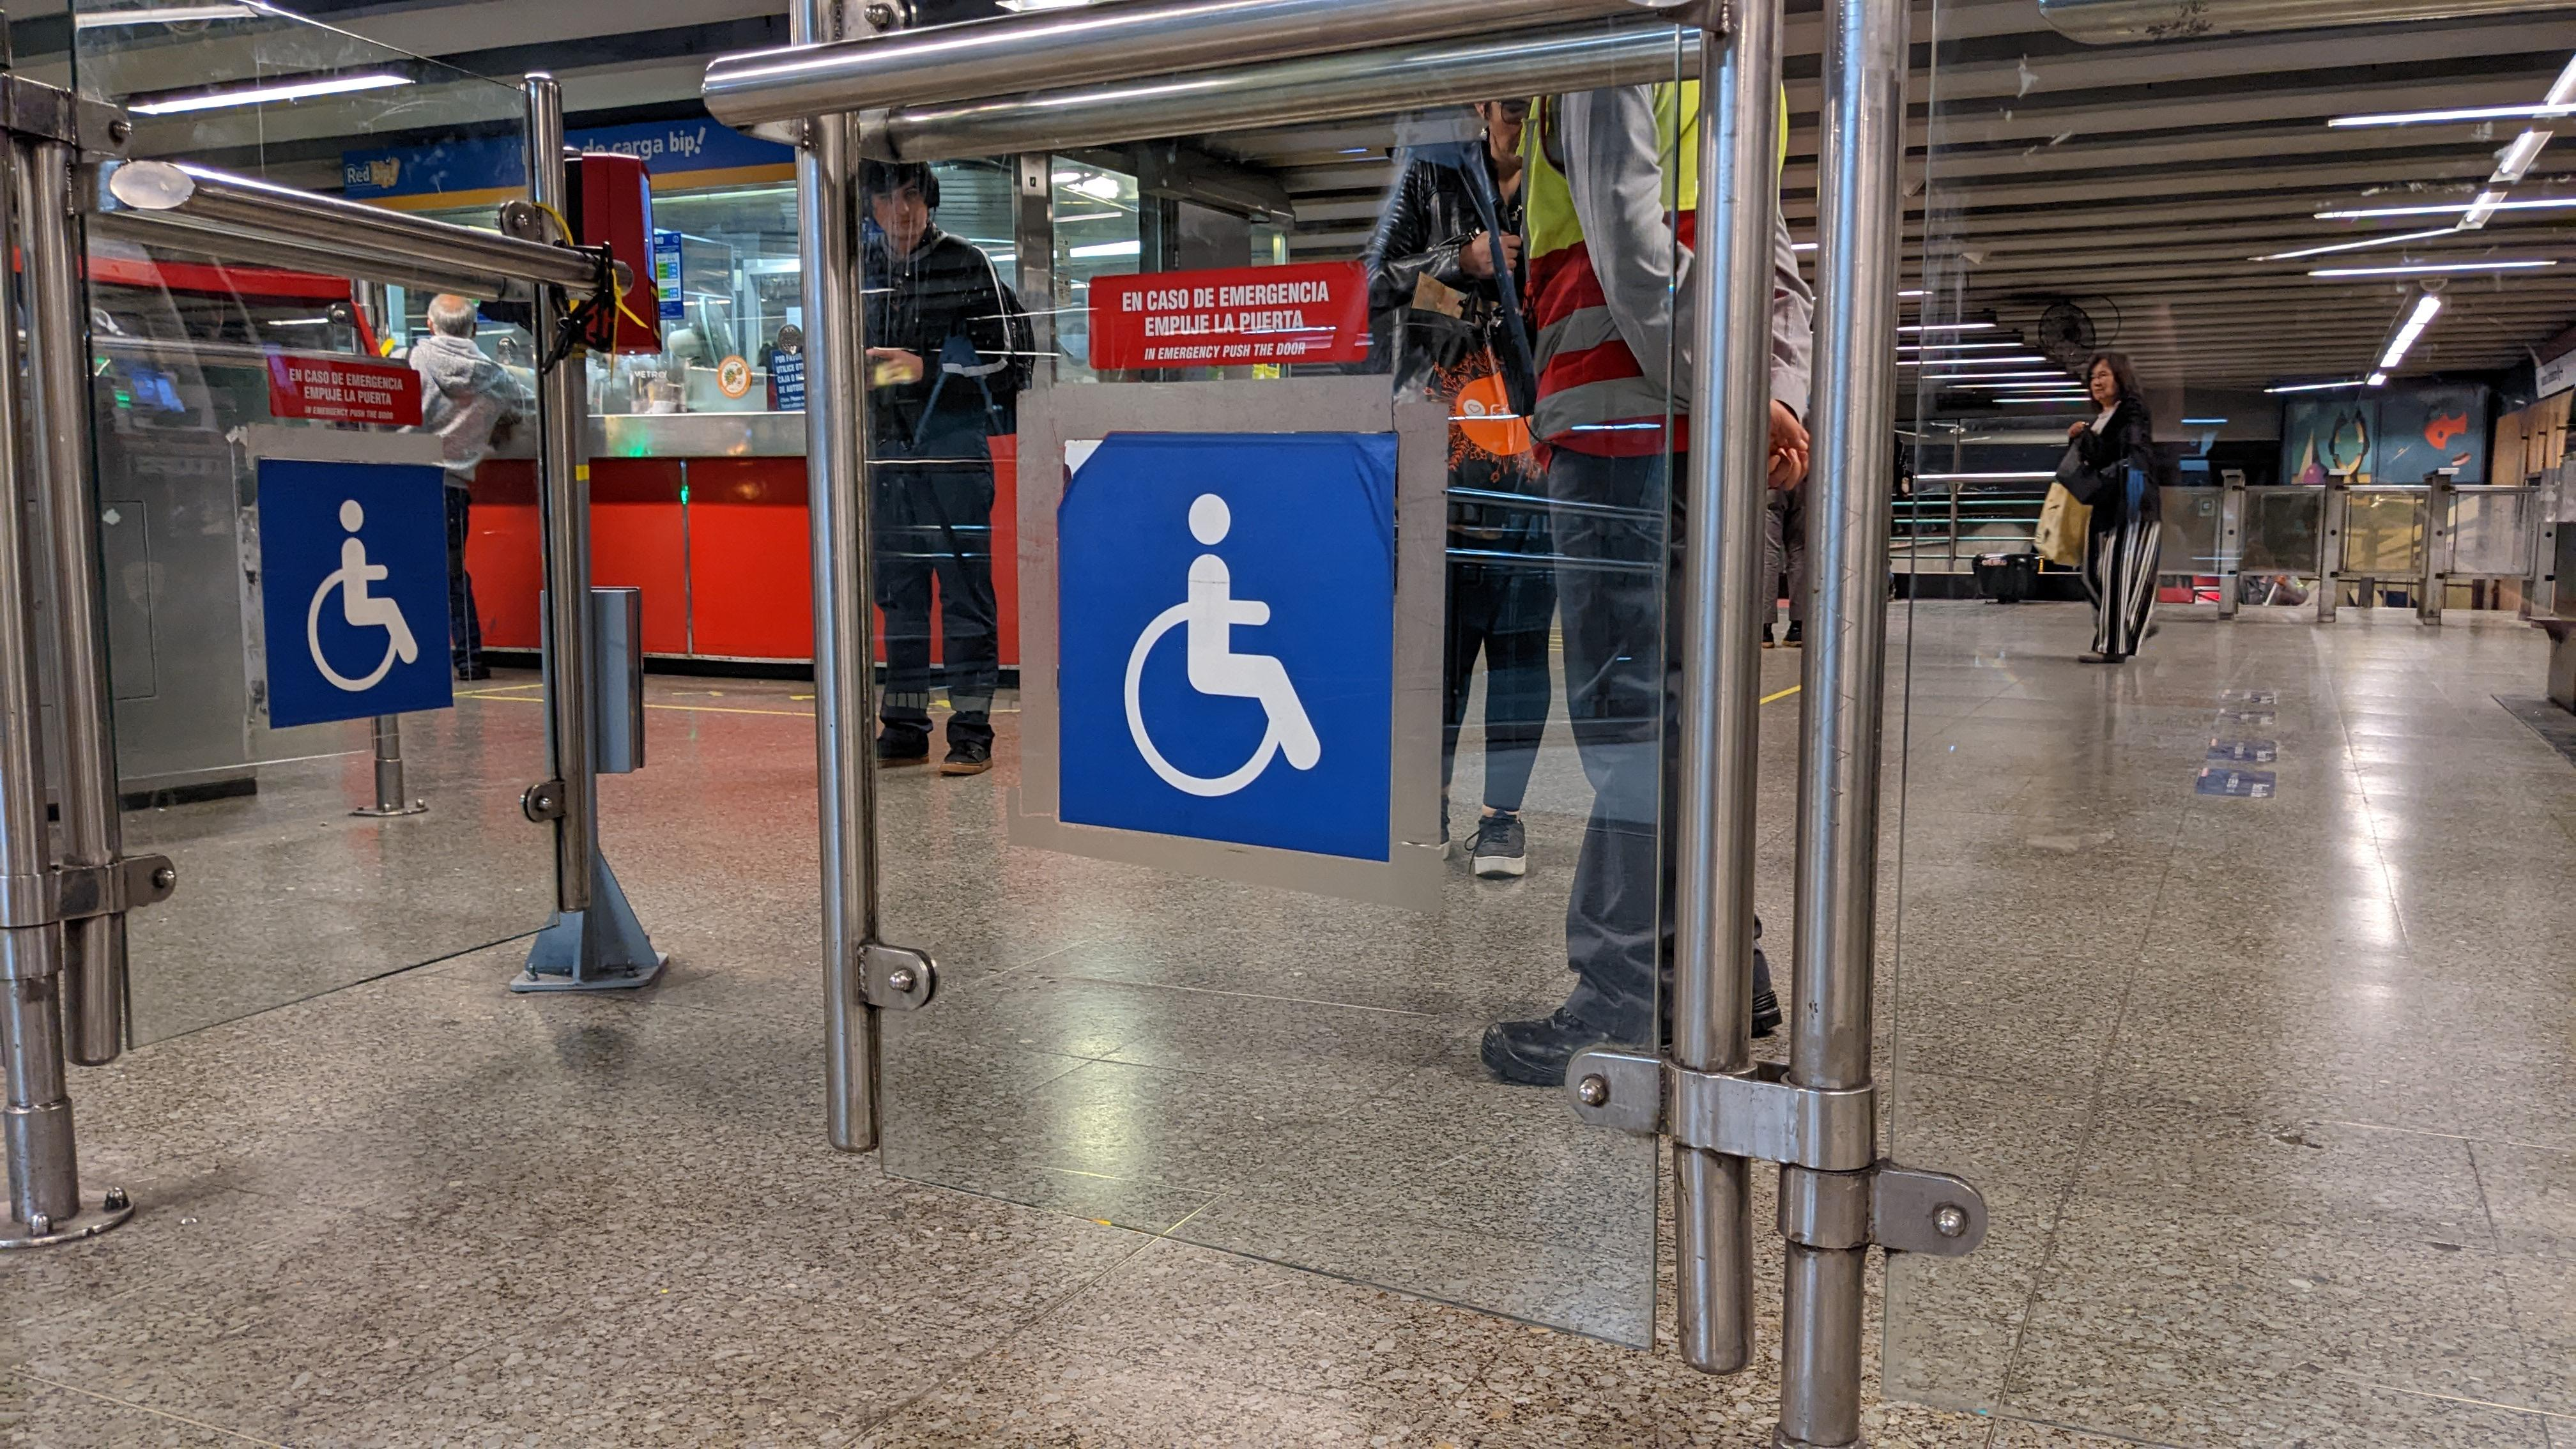handicapped symbol: (1116, 488, 1329, 803), (301, 492, 425, 697)
